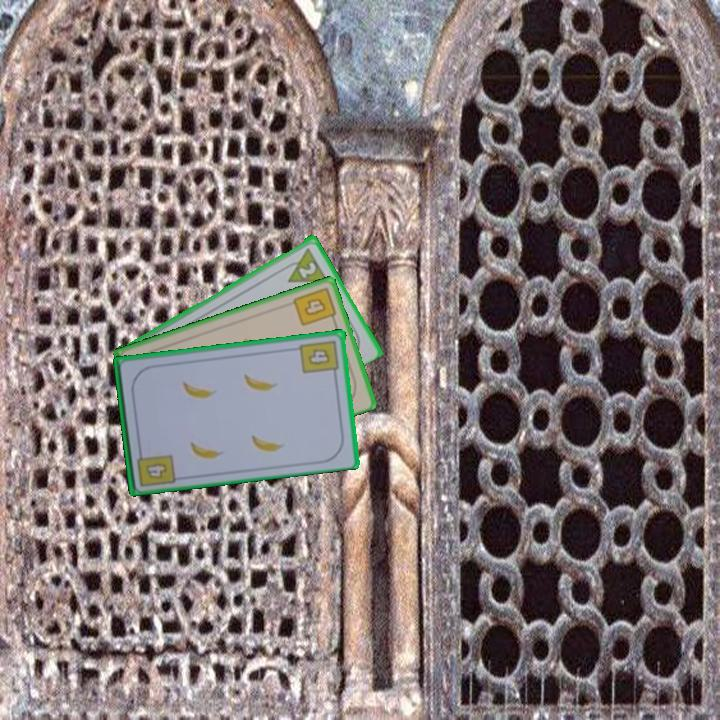2p: (295, 258, 319, 281)
4b: (290, 283, 339, 329), (297, 336, 342, 379), (144, 459, 170, 481)
